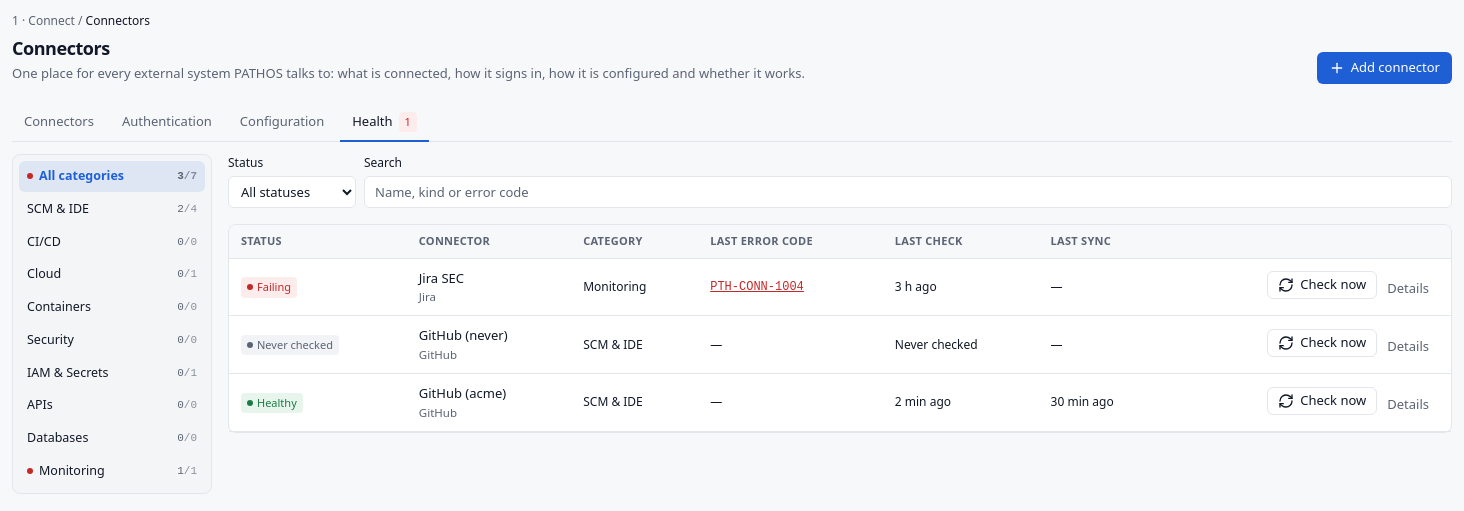
it: connectors hub › Health tab: every connector, last error code, time since the last check and a status filter
Expected: the row that starts with "Failing" is shown, [257, 279, 291, 294]
Expected: the row that starts with "Failing" shows "PTH-CONN-1004", [710, 280, 804, 294]
Select "Never checked" in the dropdown labelled "Status" at coordinates (292, 192), box [228, 176, 356, 208]
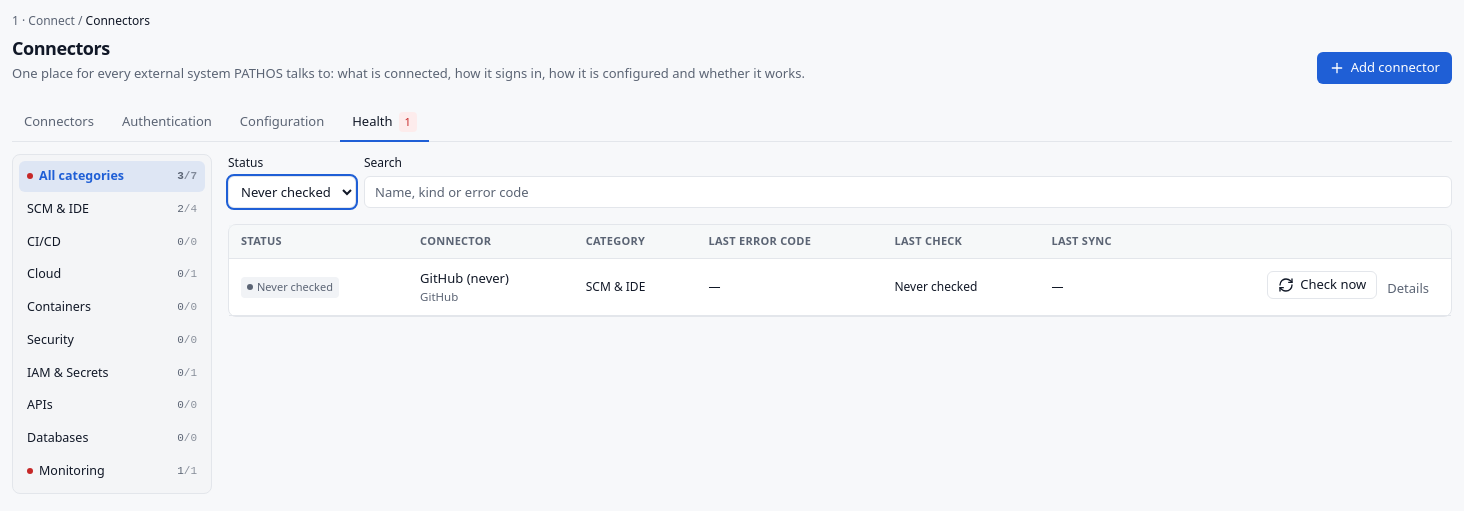
Expected: the number of rows is 2, [229, 225, 1451, 258]; [229, 258, 1451, 316]
